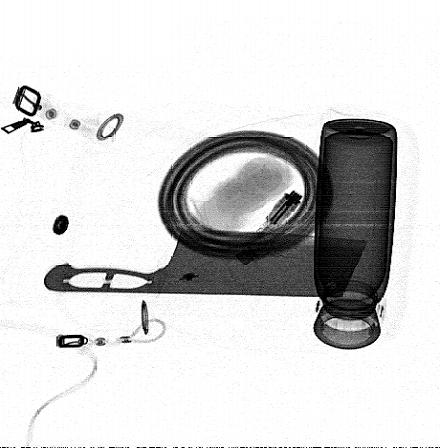Knife: (44, 228, 369, 298)
